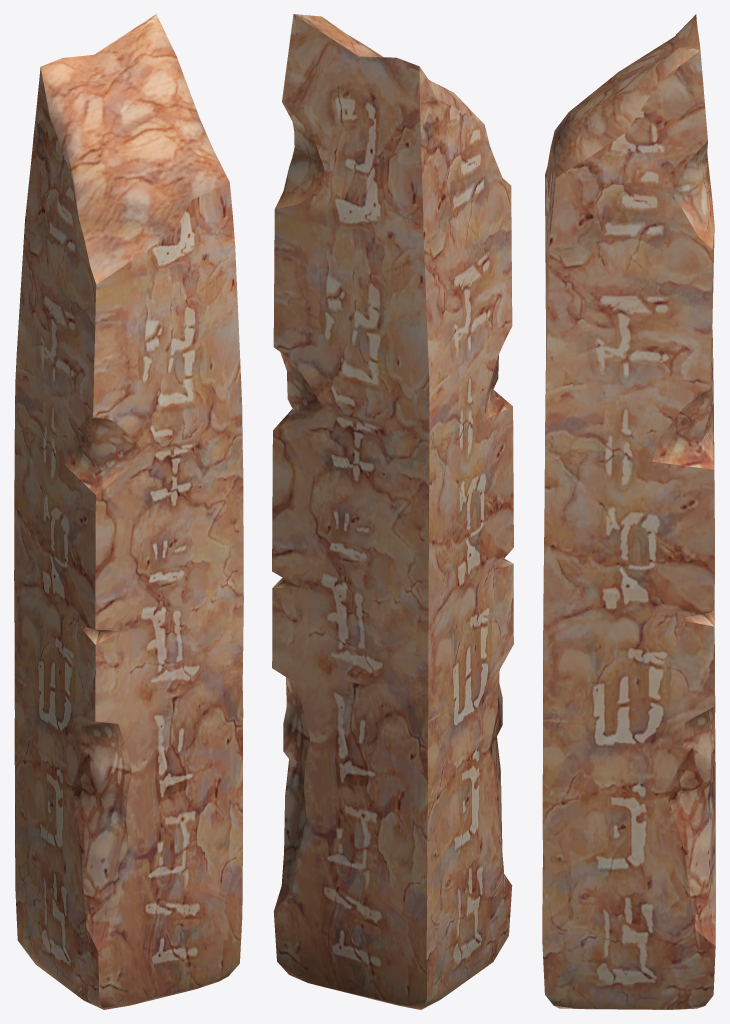
Rendered from kor_vod_ruins_pillar02.glb.
3 renders of one model, left to right at view 1: azimuth 30°, elevation 25°; view 2: azimuth 150°, elevation 25°; view 3: azimuth 270°, elevation 25°, orthographic. The views are drawn at different scales.
Parts seen in each view (by area): view 1: kor_vod_ruins_pillar02; view 2: kor_vod_ruins_pillar02; view 3: kor_vod_ruins_pillar02.
Boxes of the visible parts, bbox=[...] form: kor_vod_ruins_pillar02: bbox=[14, 14, 243, 1009]; kor_vod_ruins_pillar02: bbox=[272, 14, 513, 1009]; kor_vod_ruins_pillar02: bbox=[542, 14, 715, 1009].
Bounding box in the file's own units: 0.4041 × 2.36 × 0.3863.
Materials: 1 (1 with a texture image).
